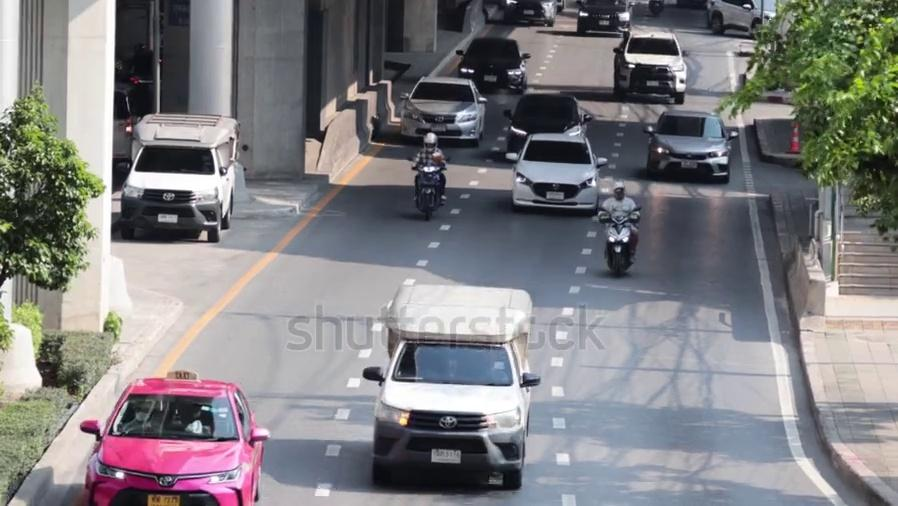rider: (598, 180, 641, 262), (411, 132, 447, 205)
with_helmate: (422, 131, 436, 150), (611, 182, 625, 199)
